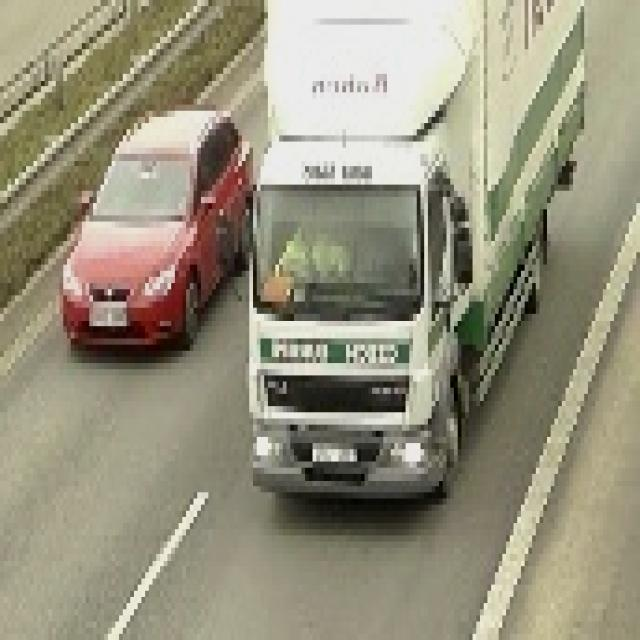truck: (243, 1, 589, 487)
